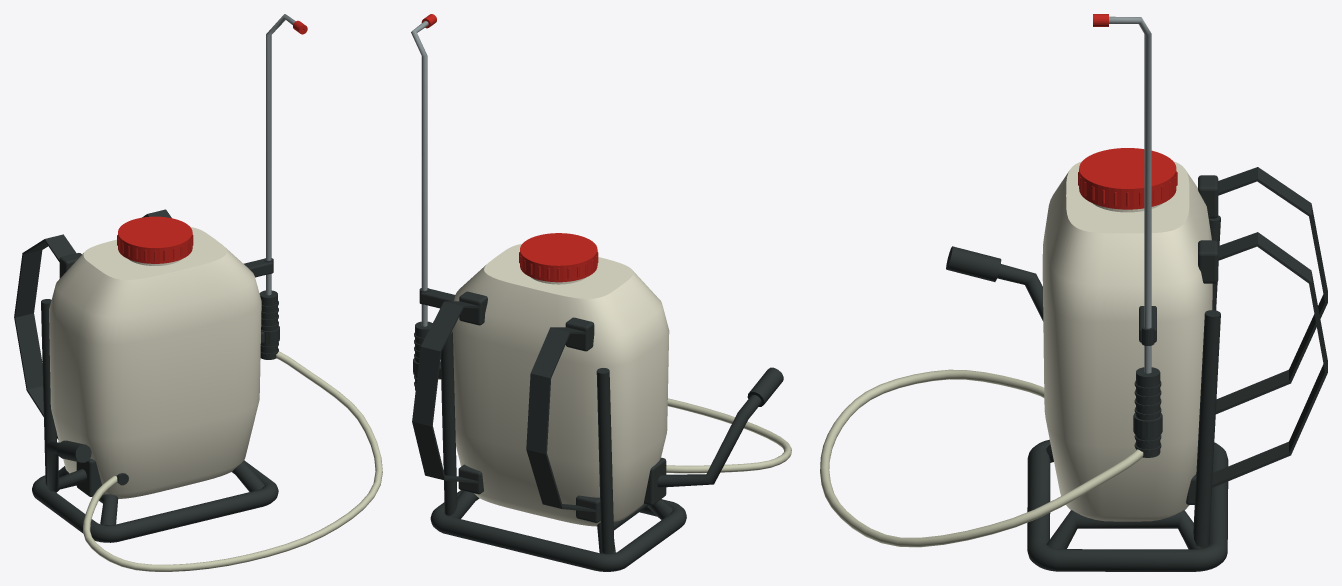
File: A-NEW-20261026-BACKPACK-SPRAYER-001_LOD1_R2.glb
3 views of the same model, side by side, from view 1: azimuth 30°, elevation 25°; view 2: azimuth 150°, elevation 25°; view 3: azimuth 270°, elevation 25° (orthographic). The views are drawn at different scales.
Visible parts, largest first — view 1: closed tapered tank, closed tubular ground frame, flexible hose, independent shoulder strap -1, red screw cap, slim spray wand, back frame upright -1, bent manual pump lever, wand ribbed grip, pump lever lower mount, lever hand grip, tank support rail -1 (+1 smaller); view 2: closed tapered tank, closed tubular ground frame, independent shoulder strap -1, independent shoulder strap 1, red screw cap, back frame upright -1, back frame upright 1, slim spray wand, flexible hose, bent manual pump lever, upper strap tab -1, upper strap tab 1 (+5 smaller); view 3: closed tapered tank, closed tubular ground frame, flexible hose, red screw cap, back frame upright 1, independent shoulder strap 1, independent shoulder strap -1, slim spray wand, tank support rail 1, wand ribbed grip, lever hand grip, bent manual pump lever (+2 smaller).
Boxes of the visible parts, bbox=[...] form: closed tapered tank: bbox=[49, 227, 261, 498]; closed tubular ground frame: bbox=[32, 460, 278, 542]; flexible hose: bbox=[83, 351, 382, 571]; independent shoulder strap -1: bbox=[14, 234, 76, 439]; red screw cap: bbox=[118, 216, 192, 263]; slim spray wand: bbox=[266, 14, 295, 295]; back frame upright -1: bbox=[41, 299, 56, 482]; bent manual pump lever: bbox=[46, 441, 86, 491]; wand ribbed grip: bbox=[259, 290, 277, 359]; pump lever lower mount: bbox=[76, 458, 104, 496]; lever hand grip: bbox=[57, 440, 91, 462]; tank support rail -1: bbox=[45, 466, 118, 525]; closed tapered tank: bbox=[452, 244, 669, 526]; closed tubular ground frame: bbox=[430, 490, 686, 571]; independent shoulder strap -1: bbox=[526, 327, 596, 512]; independent shoulder strap 1: bbox=[412, 301, 479, 483]; red screw cap: bbox=[520, 233, 597, 282]; back frame upright -1: bbox=[596, 368, 614, 553]; back frame upright 1: bbox=[440, 331, 457, 515]; slim spray wand: bbox=[411, 21, 428, 326]; flexible hose: bbox=[438, 378, 791, 473]; bent manual pump lever: bbox=[657, 394, 761, 487]; upper strap tab -1: bbox=[565, 317, 594, 351]; upper strap tab 1: bbox=[459, 291, 487, 325]; closed tapered tank: bbox=[1042, 161, 1212, 521]; closed tubular ground frame: bbox=[1027, 439, 1228, 571]; flexible hose: bbox=[820, 369, 1143, 547]; red screw cap: bbox=[1079, 148, 1176, 209]; back frame upright 1: bbox=[1193, 310, 1220, 547]; independent shoulder strap 1: bbox=[1212, 232, 1327, 487]; independent shoulder strap -1: bbox=[1215, 167, 1327, 414]; slim spray wand: bbox=[1109, 16, 1151, 373]; tank support rail 1: bbox=[1046, 510, 1209, 549]; wand ribbed grip: bbox=[1136, 367, 1160, 457]; lever hand grip: bbox=[946, 246, 1001, 281]; bent manual pump lever: bbox=[997, 264, 1043, 321].
Bounding box in the file's own units: 0.581 × 0.798 × 0.6262.
